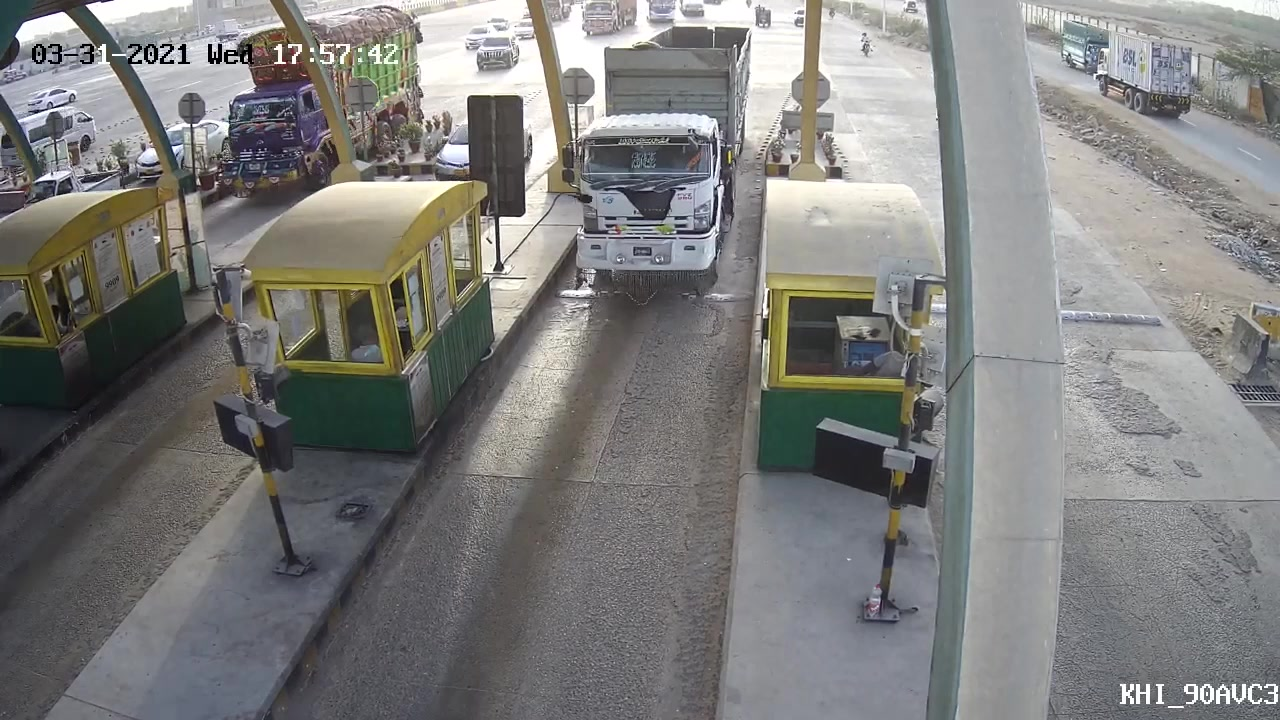F6: (560, 15, 757, 313)
